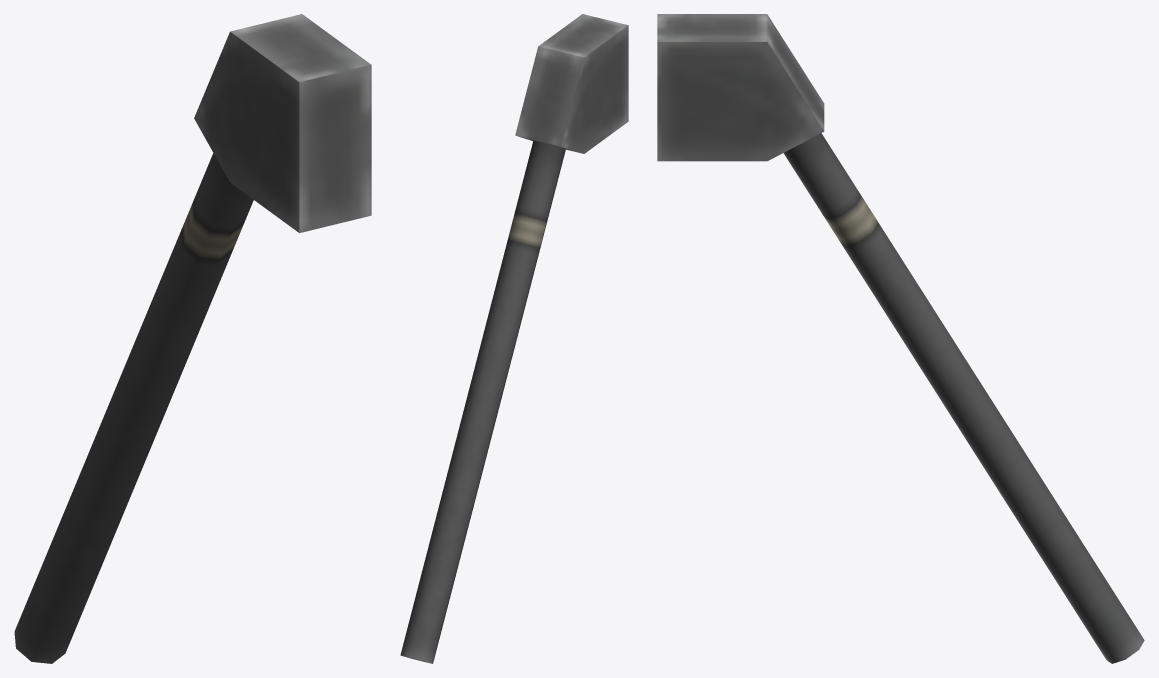
The model's file is eridani_low_gain_antenna_srf_1.obj.
3 views of the same model, side by side, from view 1: azimuth 30°, elevation 25°; view 2: azimuth 150°, elevation 25°; view 3: azimuth 270°, elevation 25° (orthographic). The views are drawn at different scales.
Visible parts, largest first — view 1: mesh1; view 2: mesh1; view 3: mesh1.
Part boxes in pixels (x1,y1,x2,y2): mesh1: (14, 14, 371, 663); mesh1: (400, 14, 628, 663); mesh1: (657, 14, 1144, 663).
Bounding box in the file's own units: 0.0375 × 0.3966 × 0.2771.
1 material, 1 textured.
